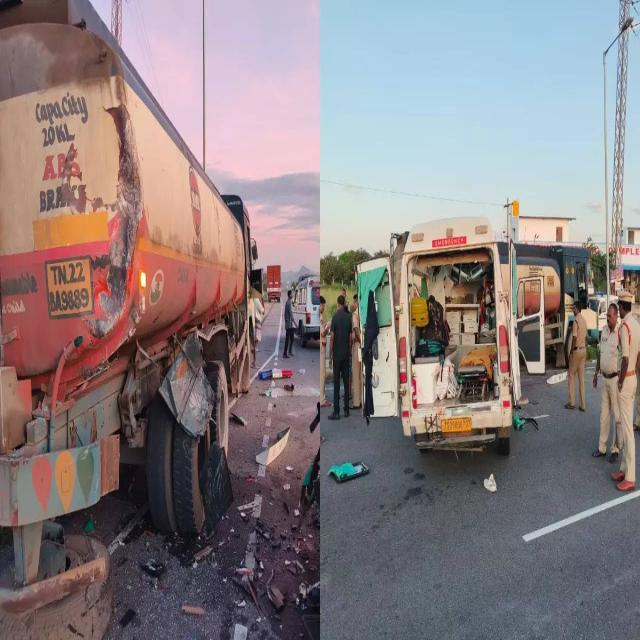accident: (356, 218, 521, 456)
car: (292, 276, 320, 347), (588, 293, 608, 341), (610, 293, 618, 303)
truck: (0, 0, 255, 621), (516, 242, 599, 367), (266, 264, 281, 300), (498, 242, 508, 290)
